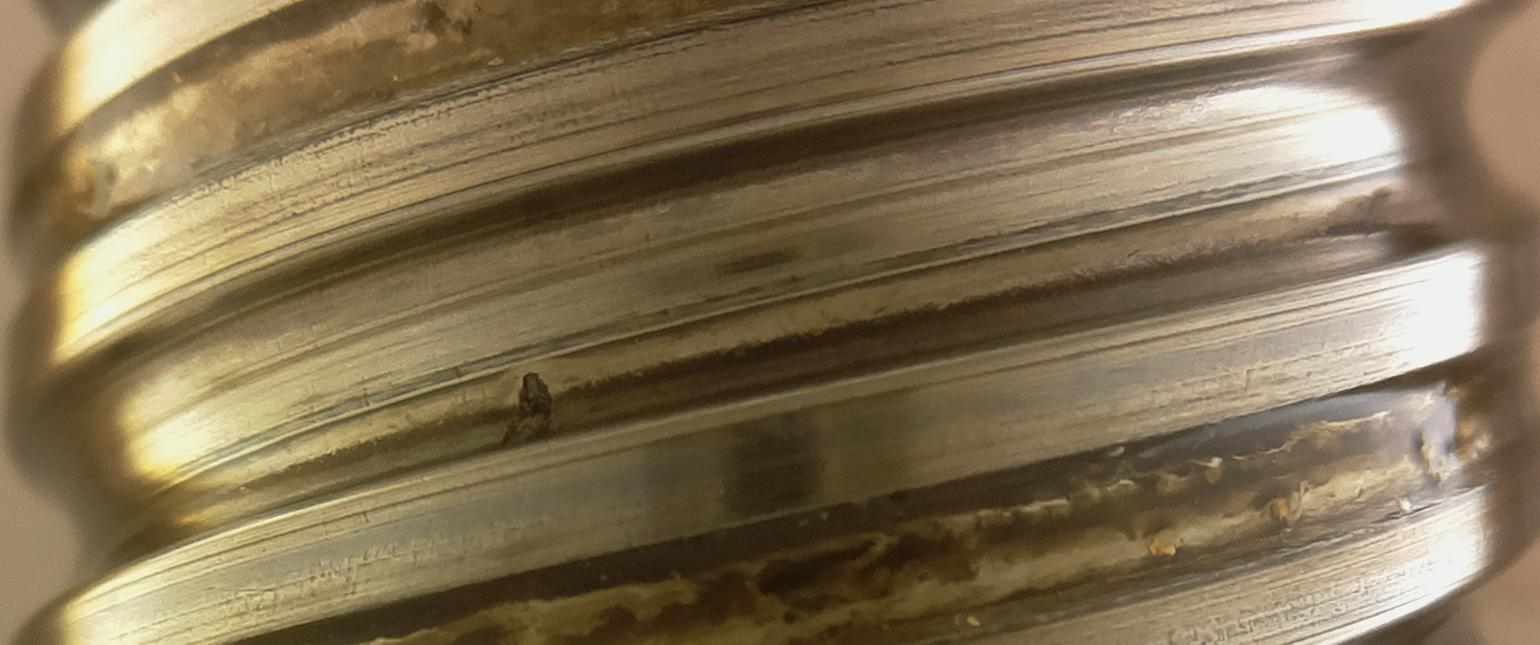pitting: (501, 372, 557, 450)
